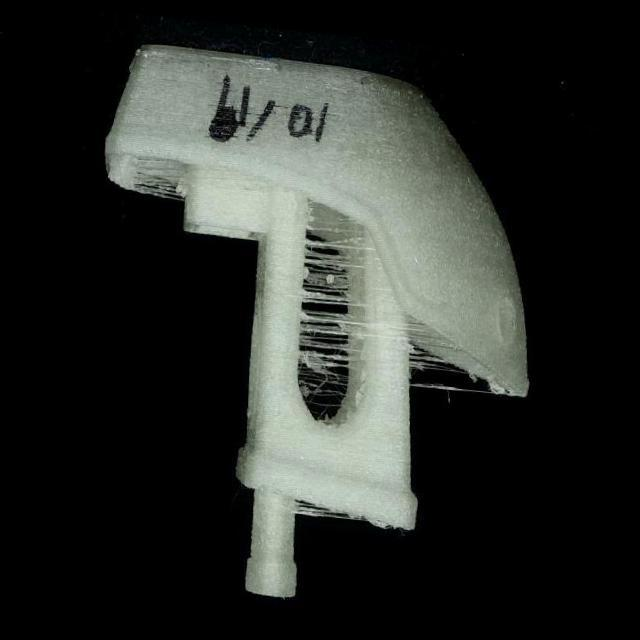stringing: (304, 196, 373, 397), (414, 364, 459, 386), (297, 495, 342, 517), (412, 332, 433, 366)
